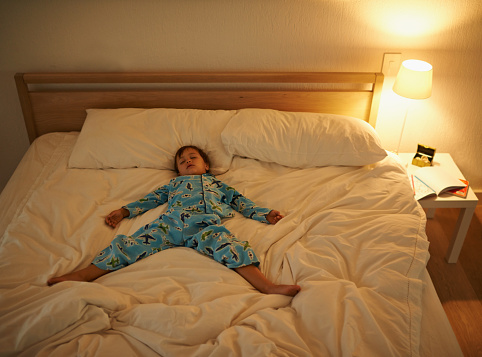deitado: (7, 114, 396, 331)
